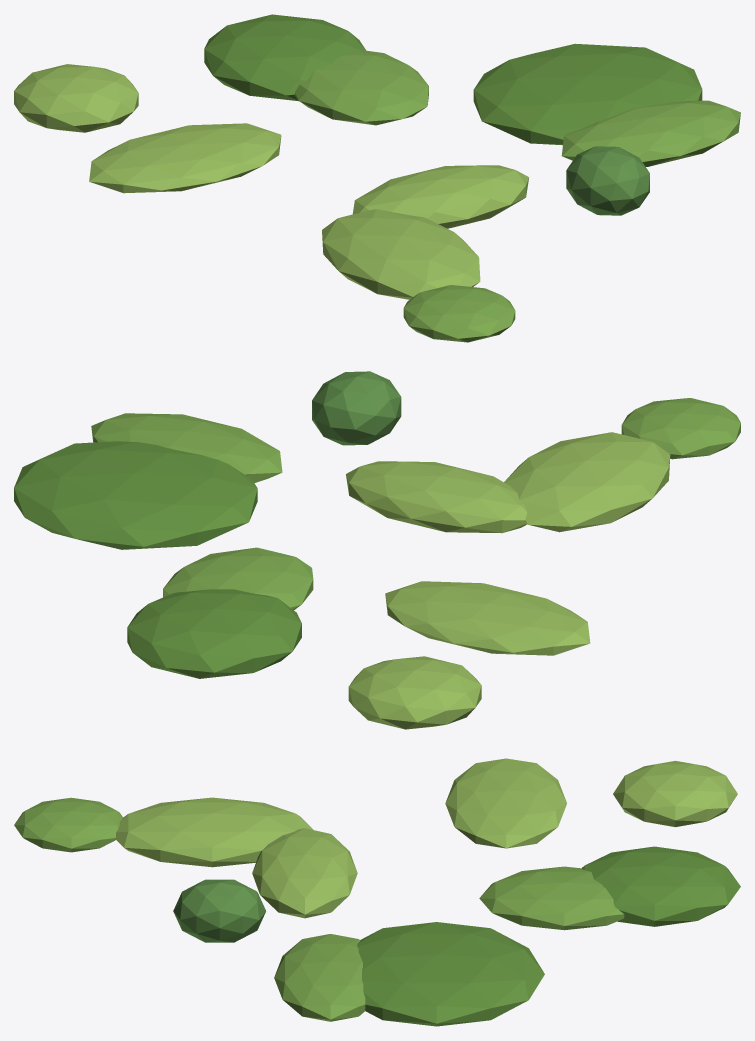
The model's file is Kir_cimen_sade_2.fbx.
3 renders of one model, top to bottom at view 1: azimuth 30°, elevation 25°; view 2: azimuth 150°, elevation 25°; view 3: azimuth 270°, elevation 25°, orthographic. The views are drawn at different scales.
Parts seen in each view (by area): view 1: Kir_cimen_sade_2; view 2: Kir_cimen_sade_2; view 3: Kir_cimen_sade_2.
Part boxes in pixels (<box>): Kir_cimen_sade_2: <box>14,14,740,342</box>; Kir_cimen_sade_2: <box>14,371,740,729</box>; Kir_cimen_sade_2: <box>14,758,740,1026</box>.
Size of the model in its own units: 15.98 by 1.95 by 18.52.
